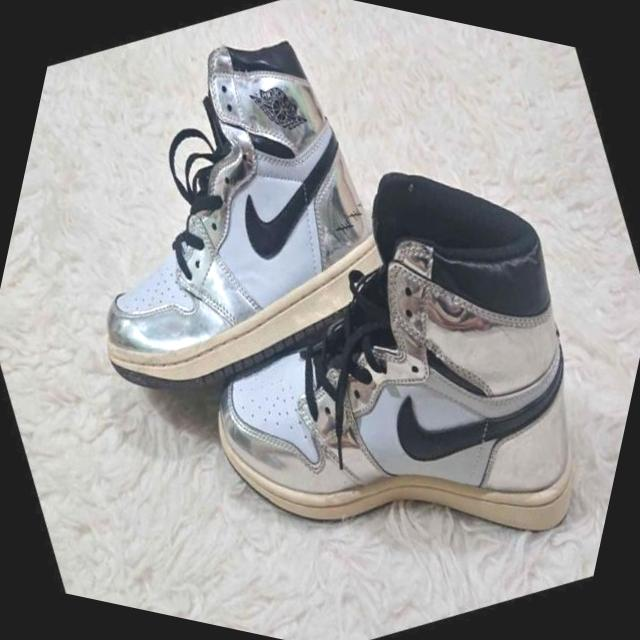nike_fake_jordan: (88, 68, 640, 640), (0, 0, 461, 463)
